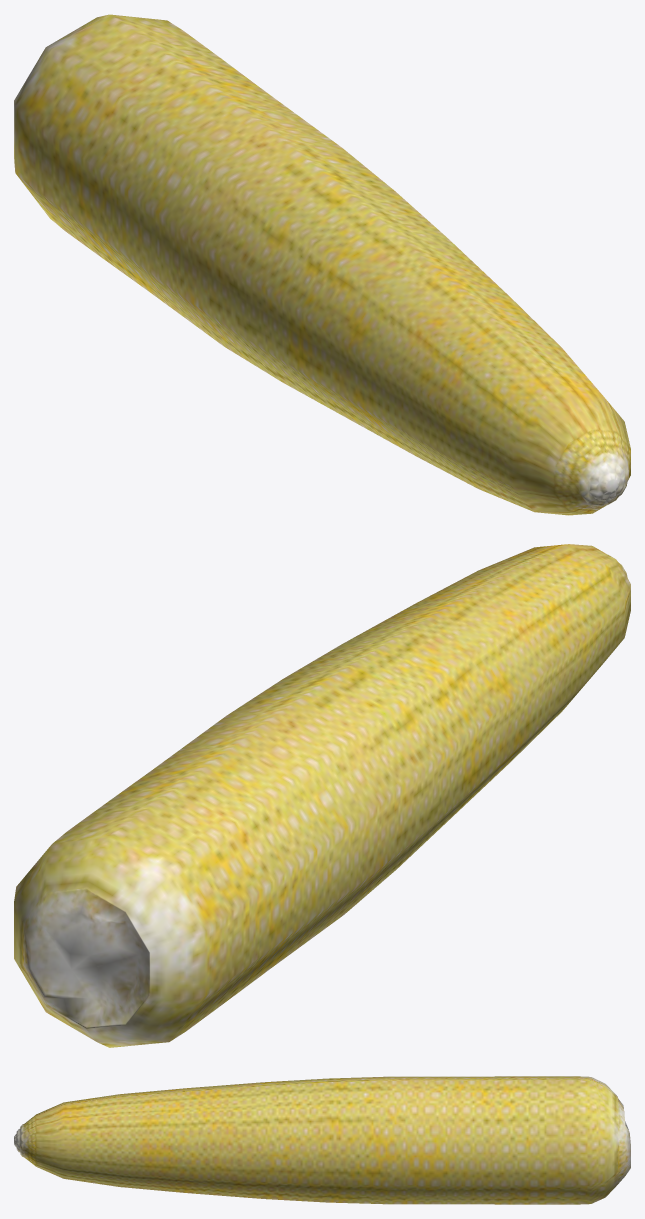
Rendered from PA_prp_YuMibang_mod.fbx.
3 renders of one model, top to bottom at view 1: azimuth 30°, elevation 25°; view 2: azimuth 150°, elevation 25°; view 3: azimuth 270°, elevation 25°, orthographic. The views are drawn at different scales.
Parts seen in each view (by area): view 1: YuMubang; view 2: YuMubang; view 3: YuMubang.
Part boxes in pixels (bbox=[...]): YuMubang: bbox=[14, 14, 630, 515]; YuMubang: bbox=[14, 544, 630, 1047]; YuMubang: bbox=[14, 1076, 630, 1204].
Size of the model in its own units: 12.26 by 13.07 by 60.
